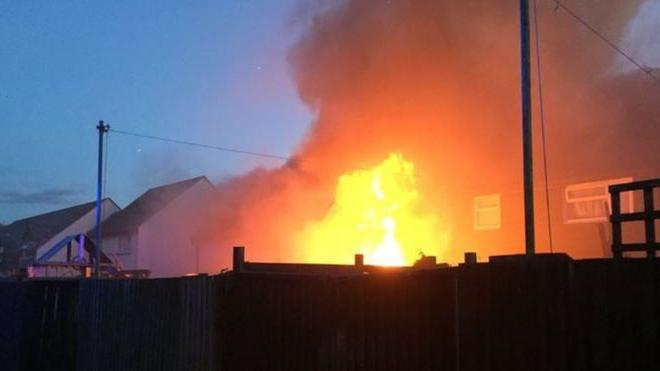fire: (303, 151, 456, 286)
